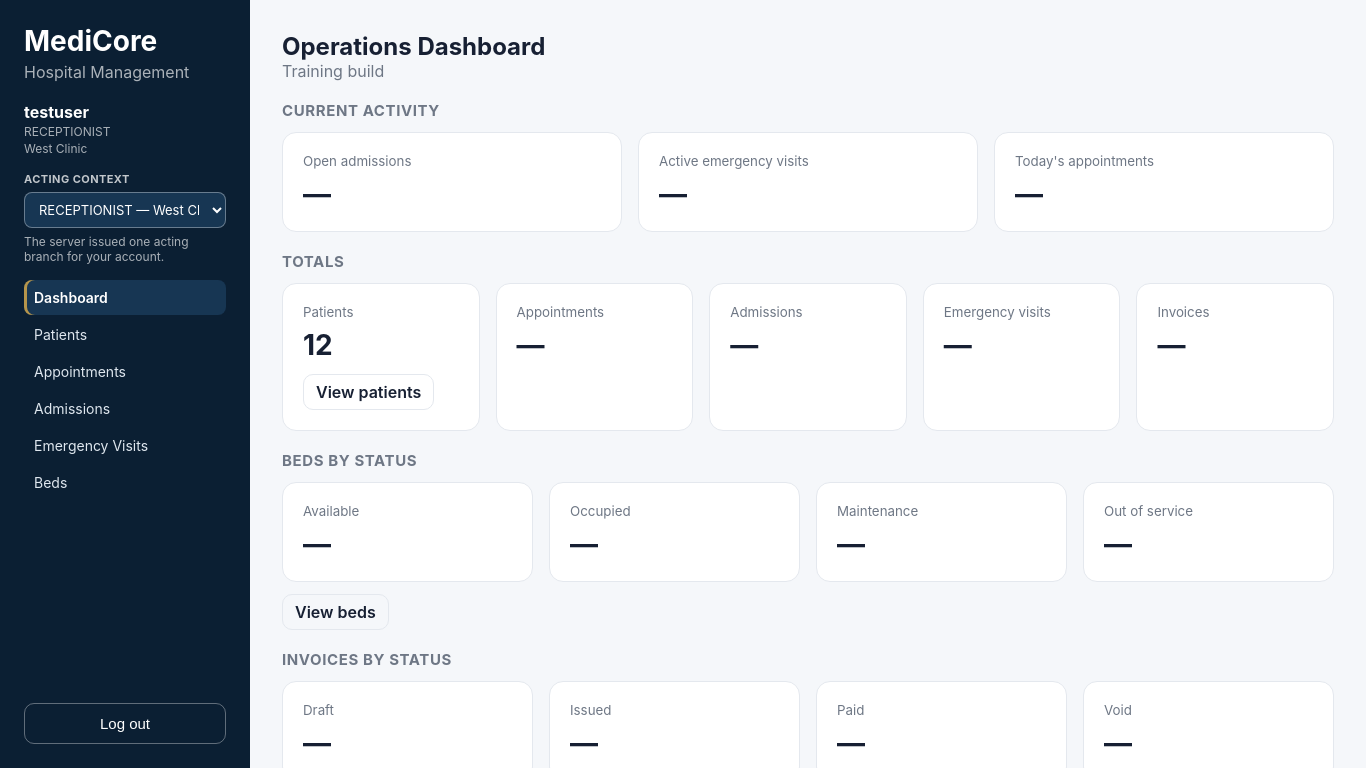
AppShell › opens the admissions screen for a clinical-administrative role and loads its list once
The image size is (1366, 768).
expect the text "Patients" is shown: met, box [303,304,354,320]
expect the text "12" is shown: met, box [303,328,333,362]
Click the button "Admissions".
click(125, 408)  # box [24,391,226,426]
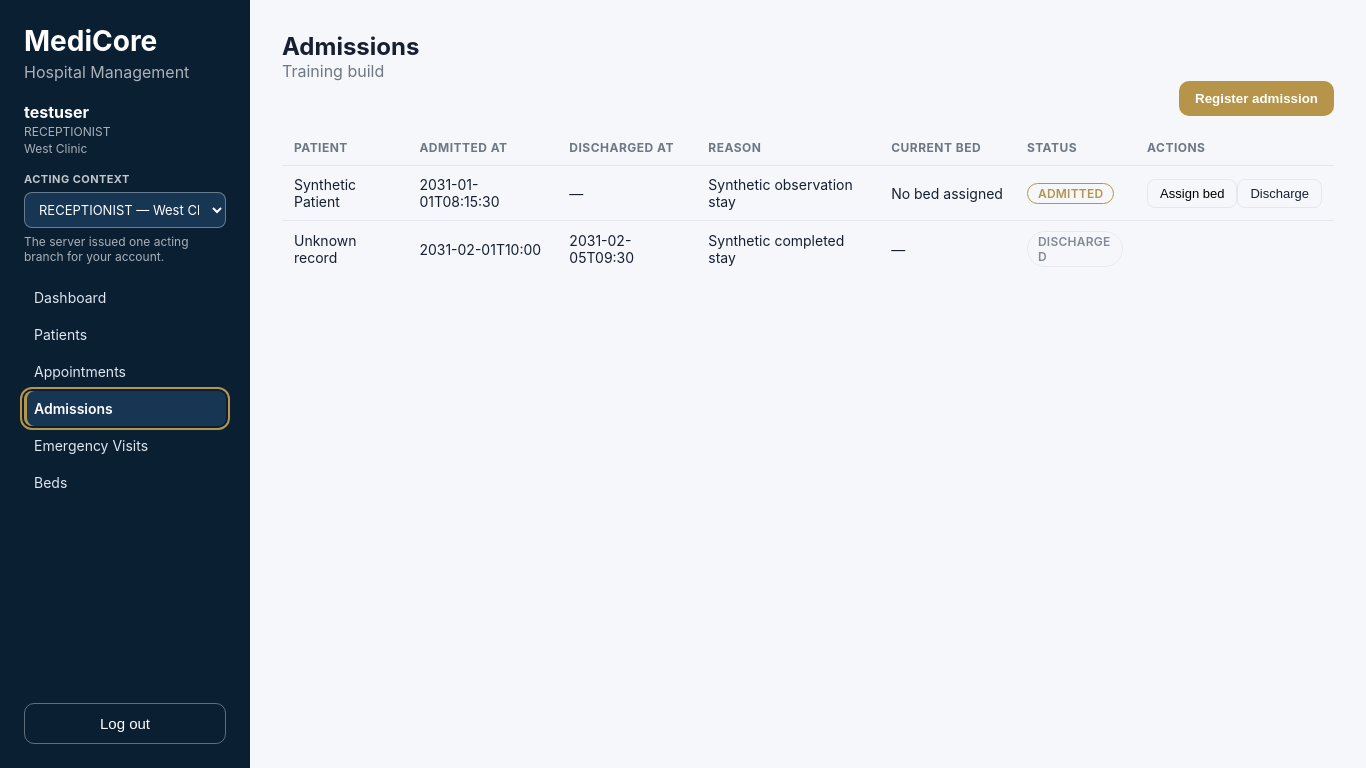
expect the heading "Admissions" is shown: met, box [282,32,419,61]
expect the number of rows is 3: met, box [282,130,1334,166]; [282,166,1334,220]; [282,220,1334,277]
expect the text "ADMITTED" is shown: met, box [1027,182,1114,204]
